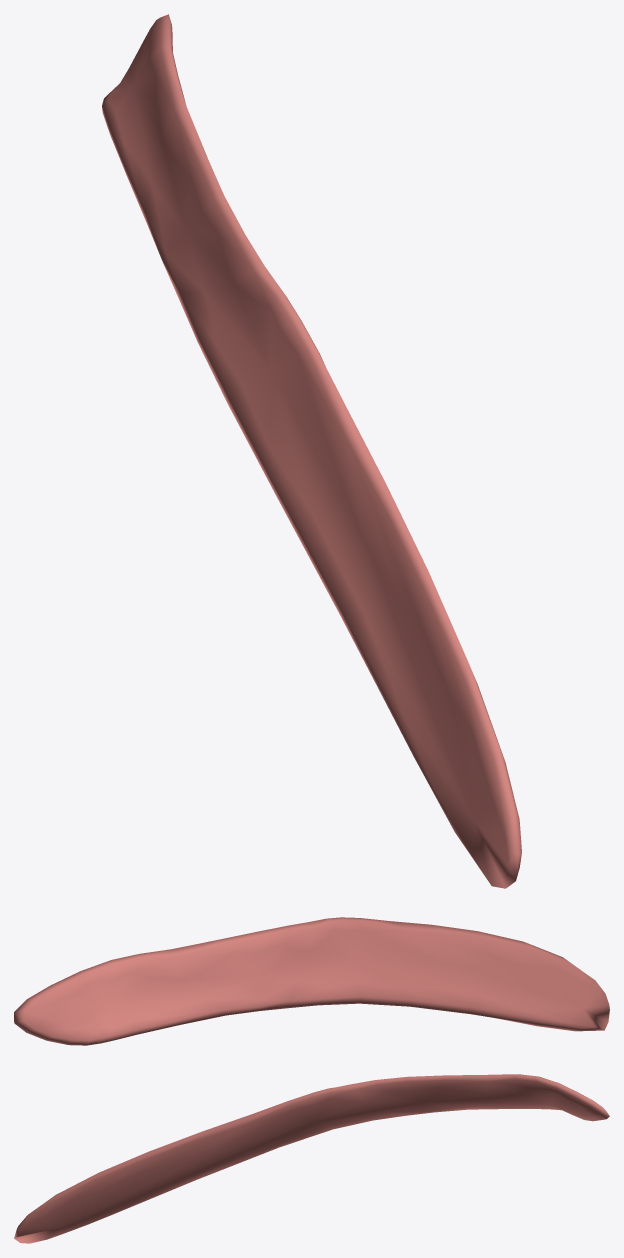
The picture shows the model from 3 angles, top to bottom: view 1: azimuth 30°, elevation 25°; view 2: azimuth 150°, elevation 25°; view 3: azimuth 270°, elevation 25°; orthographic projection. The views are drawn at different scales.
Parts seen in each view (by area): view 1: ZA_1b9c9398594a7f86; view 2: ZA_1b9c9398594a7f86; view 3: ZA_1b9c9398594a7f86.
Boxes of the visible parts, bbox=[...] form: ZA_1b9c9398594a7f86: bbox=[102, 14, 521, 888]; ZA_1b9c9398594a7f86: bbox=[14, 917, 609, 1045]; ZA_1b9c9398594a7f86: bbox=[14, 1074, 609, 1243].
Size of the model in its own units: 0.00709 by 0.0114 by 0.029.
